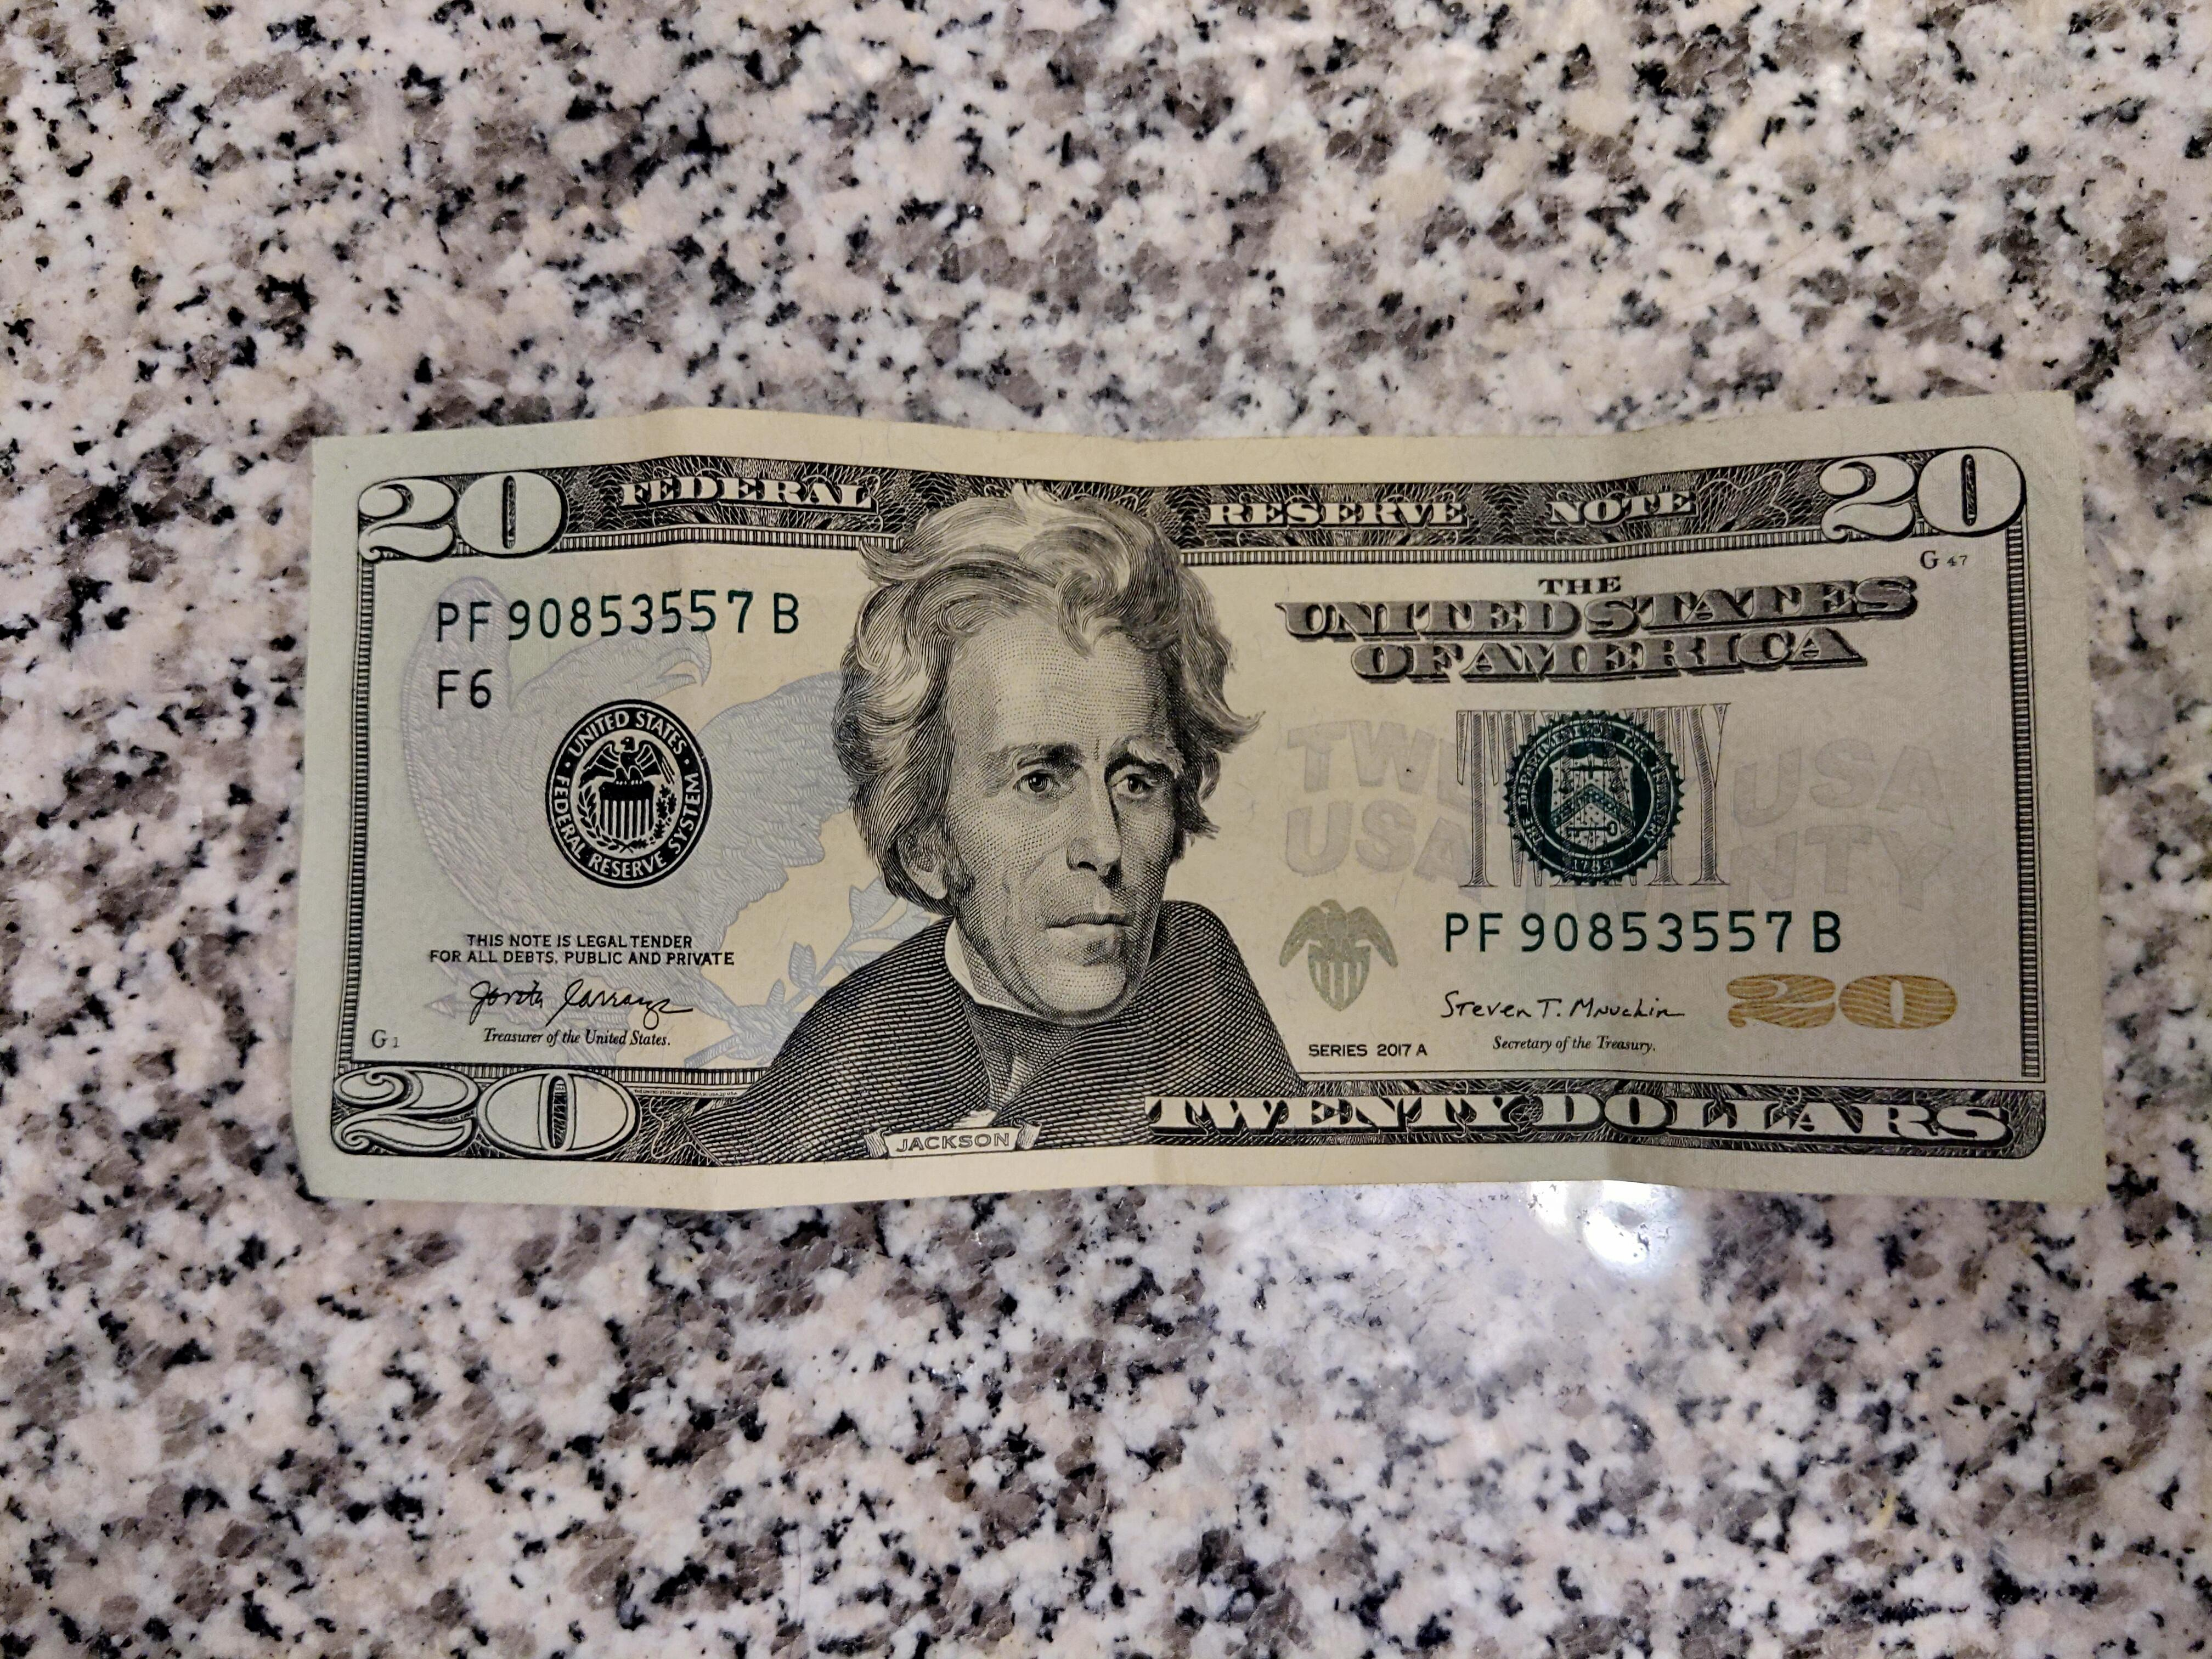TwentyBill: (293, 382, 2102, 1218)
